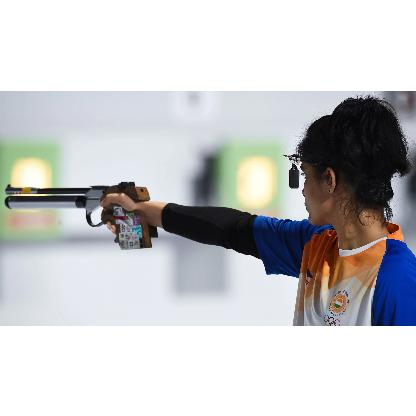gun: (3, 178, 157, 257)
